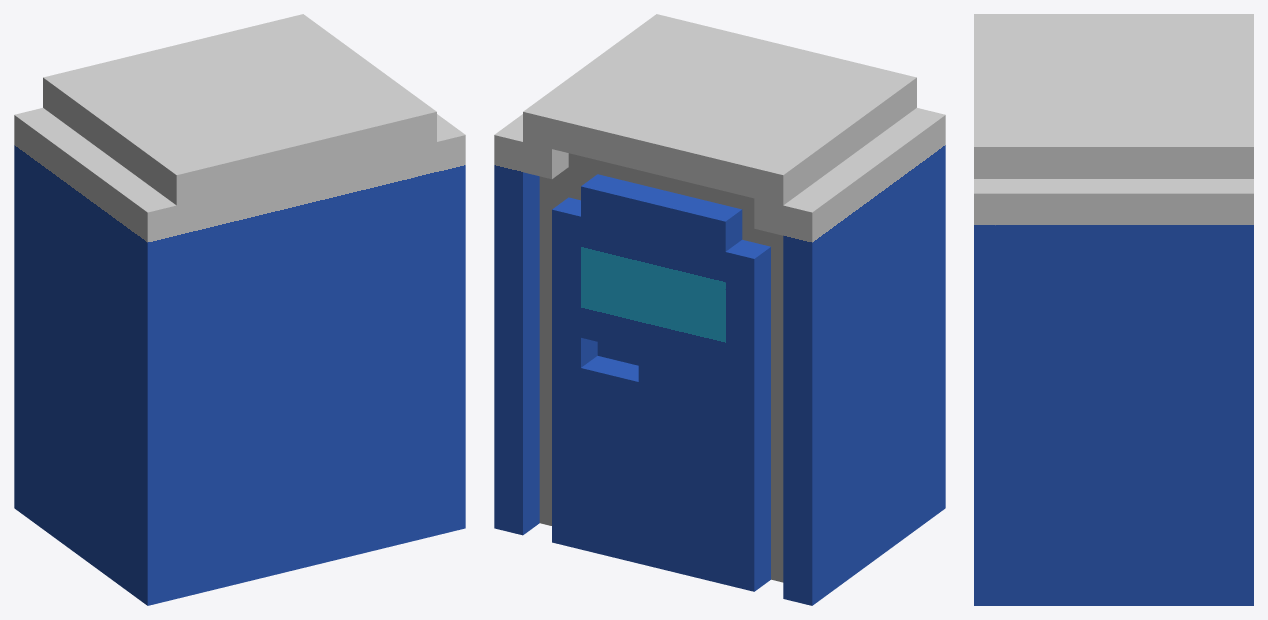
Rendered from obj_potty2.fbx.
3 views of the same model, side by side, from view 1: azimuth 30°, elevation 25°; view 2: azimuth 150°, elevation 25°; view 3: azimuth 270°, elevation 25° (orthographic). The views are drawn at different scales.
Visible parts, largest first — view 1: obj_potty2; view 2: obj_potty2; view 3: obj_potty2.
Boxes of the visible parts, left/top/right/bottom form: obj_potty2: left=14, top=14, right=465, bottom=605; obj_potty2: left=494, top=14, right=945, bottom=605; obj_potty2: left=974, top=14, right=1253, bottom=605.
Size of the model in its own units: 1.1 by 0.8 by 1.4.
Materials: 1 (1 with a texture image).
